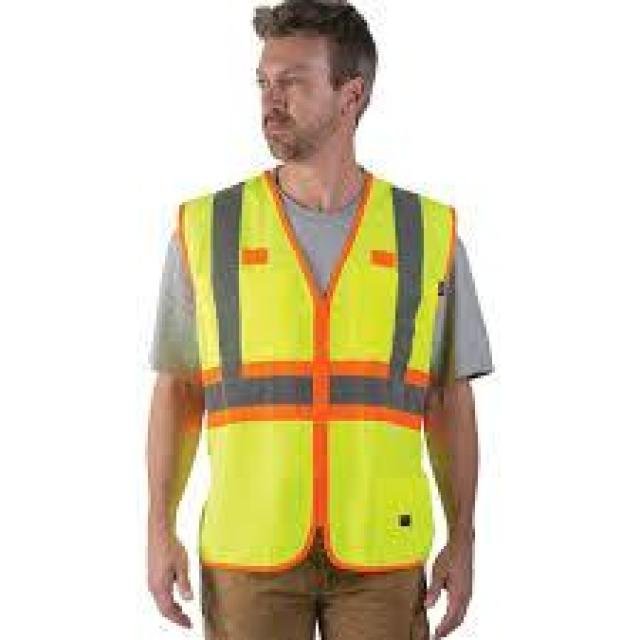vest: (188, 175, 461, 567)
